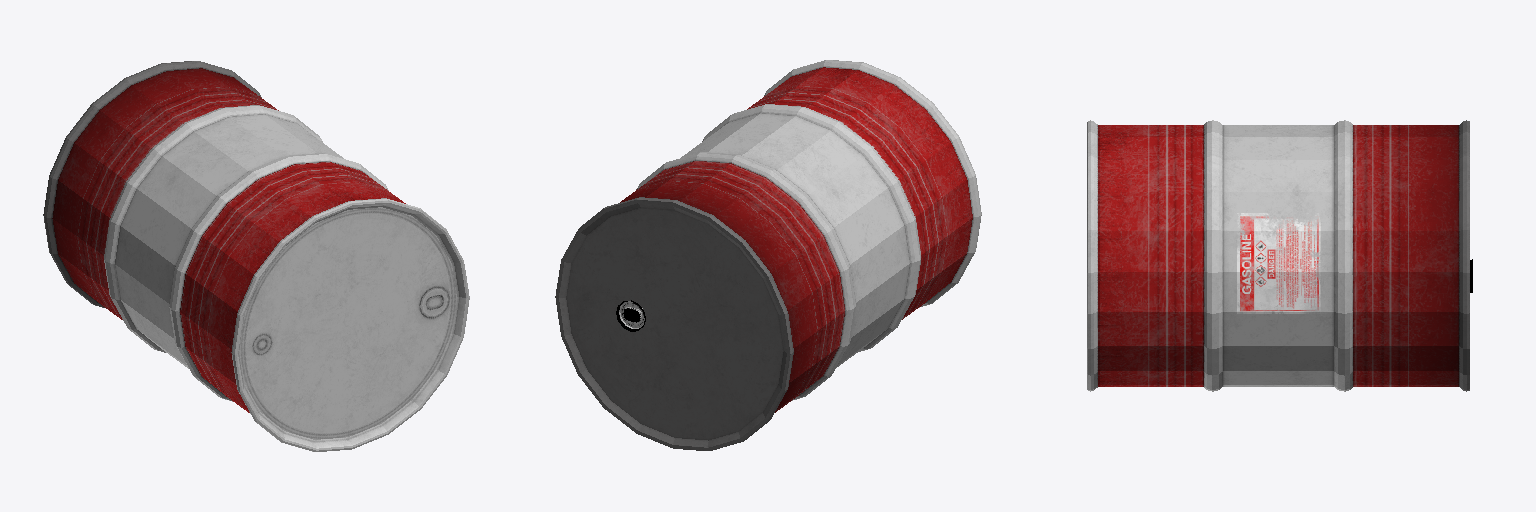
3 views of the same model, side by side, from view 1: azimuth 30°, elevation 25°; view 2: azimuth 150°, elevation 25°; view 3: azimuth 270°, elevation 25° (orthographic).
Visible parts, largest first — view 1: Barrel_Barrel_MAT_0; view 2: Barrel_Barrel_MAT_0; view 3: Barrel_Barrel_MAT_0.
Boxes of the visible parts, x1,y1,x2,y2 form: Barrel_Barrel_MAT_0: [43, 61, 469, 451]; Barrel_Barrel_MAT_0: [555, 60, 981, 450]; Barrel_Barrel_MAT_0: [1087, 120, 1472, 391].
Size of the model in its own units: 1.1 by 1.1 by 1.55.
1 materials, 1 textured.